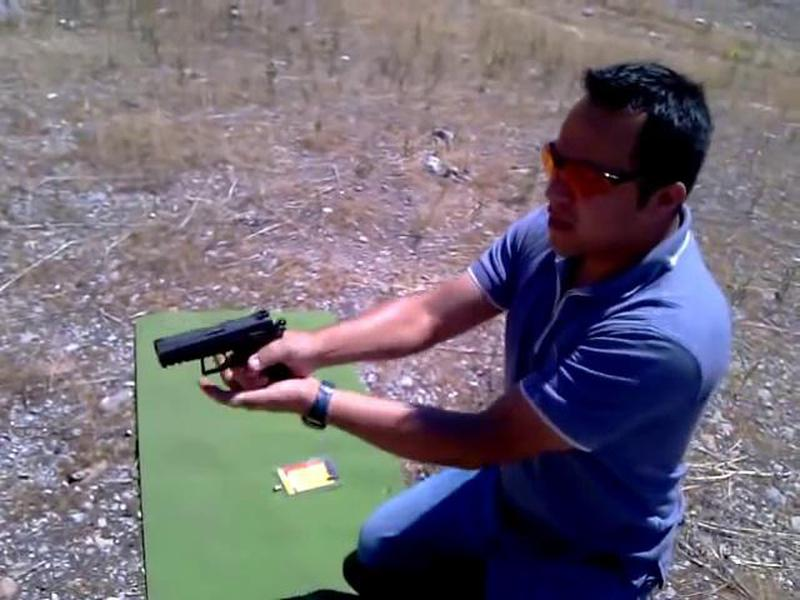Pistola: (143, 300, 290, 411)
